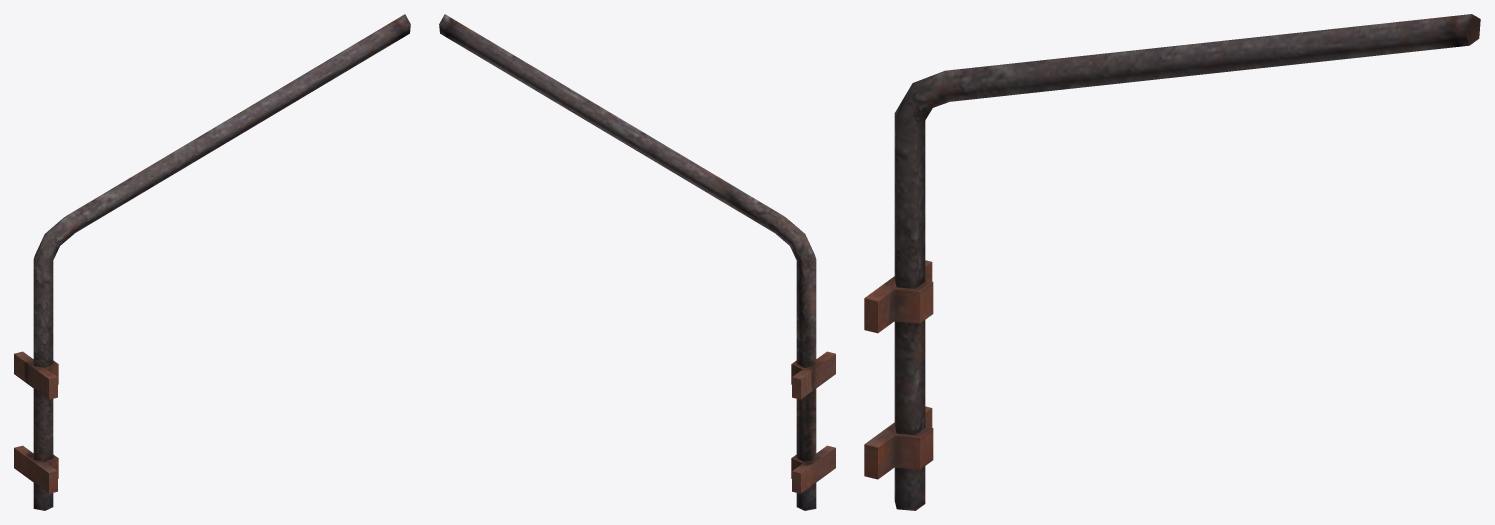
The model's file is StreetLight_Holde.FBX.
3 views of the same model, side by side, from view 1: azimuth 30°, elevation 25°; view 2: azimuth 150°, elevation 25°; view 3: azimuth 330°, elevation 25° (orthographic). The views are drawn at different scales.
Visible parts, largest first — view 1: StreetLight_Holder; view 2: StreetLight_Holder; view 3: StreetLight_Holder.
Boxes of the visible parts, bbox=[...] form: StreetLight_Holder: bbox=[14, 14, 410, 510]; StreetLight_Holder: bbox=[439, 14, 835, 510]; StreetLight_Holder: bbox=[864, 14, 1480, 510].
Size of the model in its own units: 96.59 by 99.42 by 15.59.
